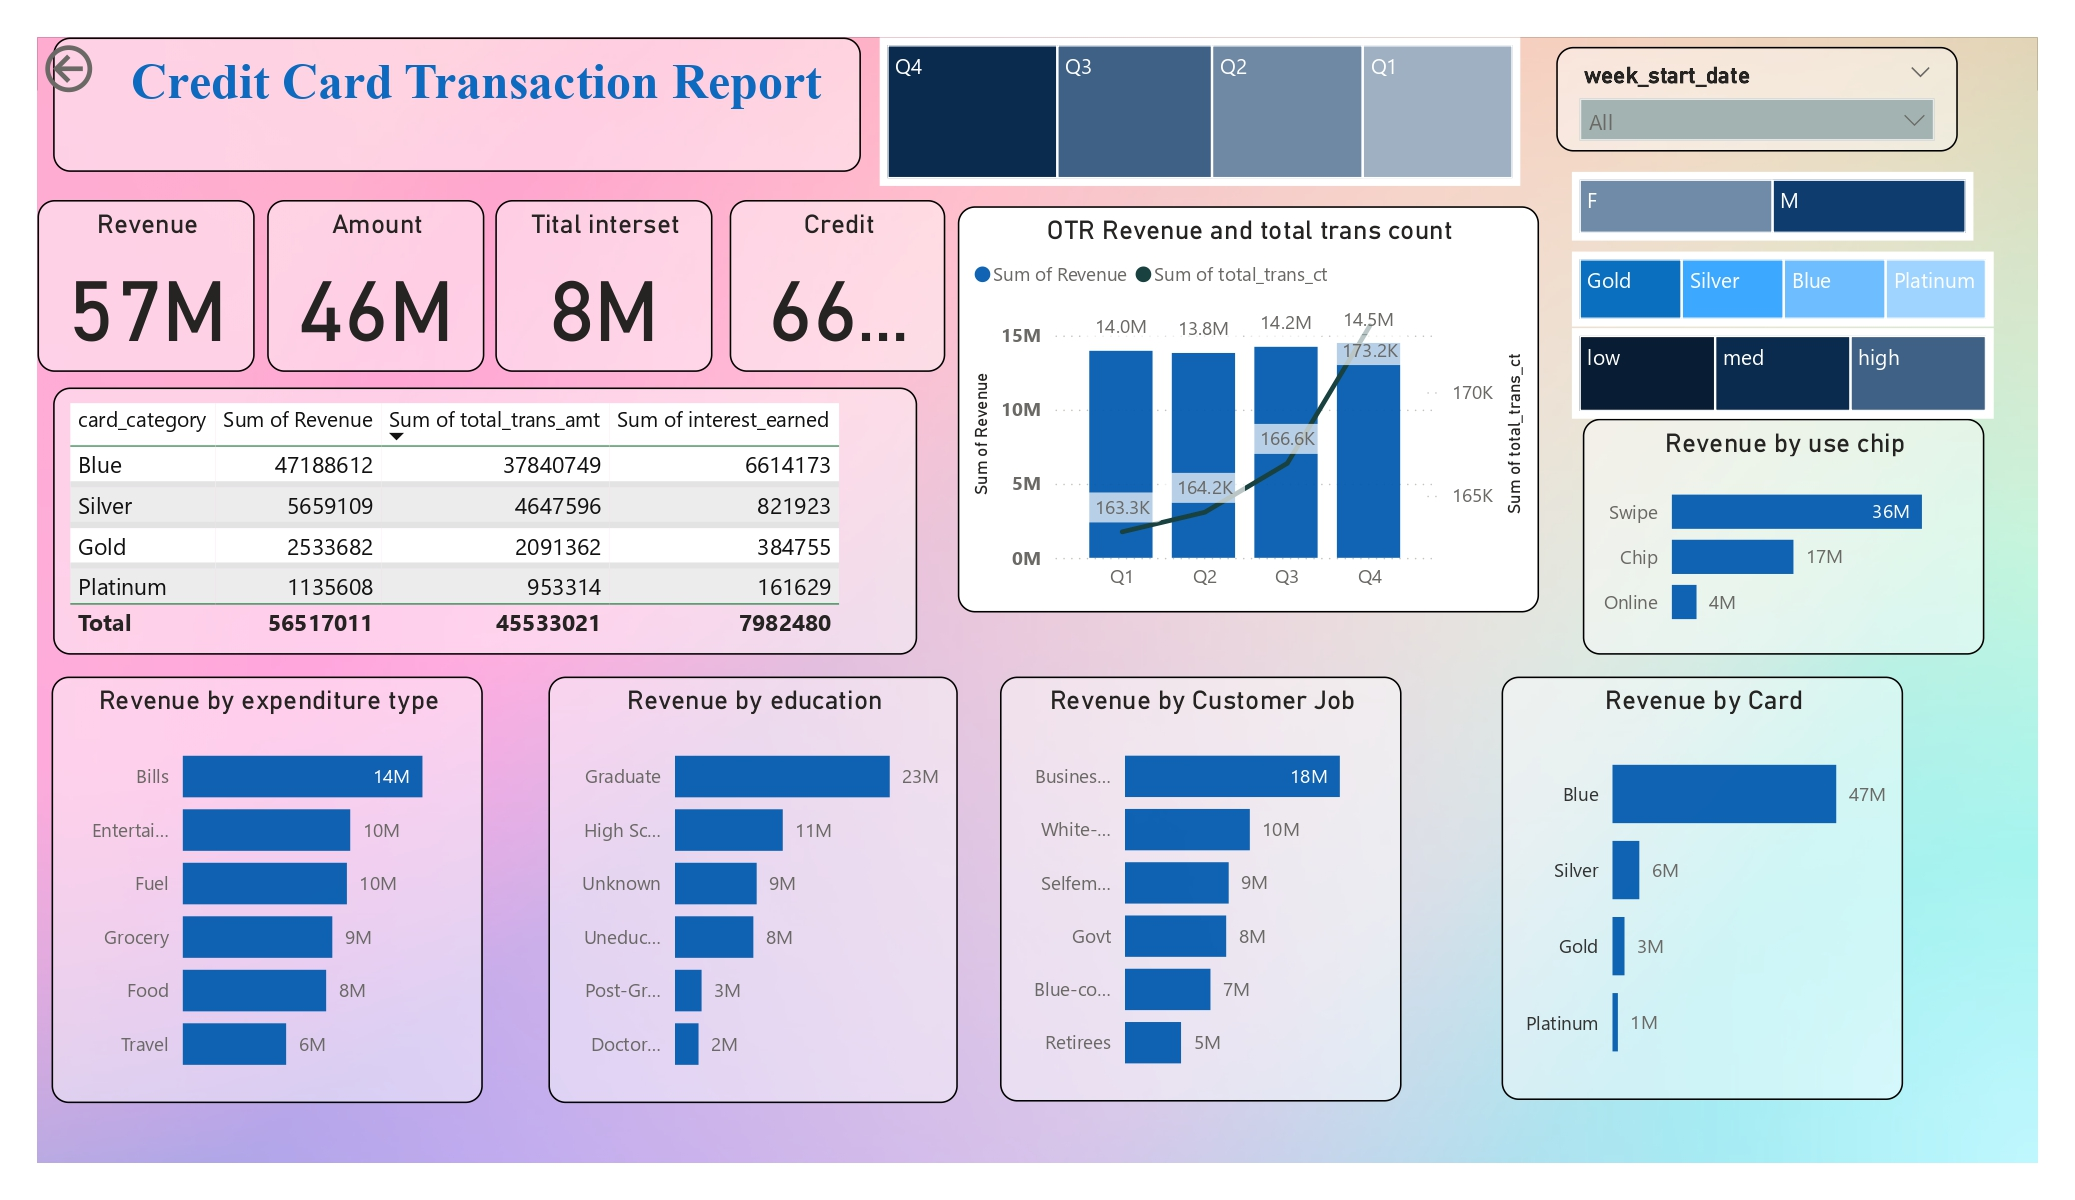

Layout of this report page (visuals, bound fields, positions):
{"tool":"powerbi","page":{"name":"Page 1","canvas":[1280,720],"ordinal":0},"visuals":[{"type":"textbox","box":[9.6,0,517.4,85.7],"z":0},{"type":"lineStackedColumnComboChart","title":"OTR Revenue and total trans count","fields":{"Category":["public cc_detail.qtr"],"Y":["Sum(public cc_detail.Revenue)"],"Y2":["Sum(public cc_detail.total_trans_ct)"]},"box":[589.1,108.2,371.7,260.3],"z":1000},{"type":"barChart","title":"Revenue by expenditure type","fields":{"Category":["public cc_detail.exp_type"],"Y":["Sum(public cc_detail.Revenue)"]},"box":[8.6,409.2,276.4,273.1],"z":2000},{"type":"barChart","title":"Revenue by education","fields":{"Category":["public cust_detail.education_level"],"Y":["Sum(public cc_detail.Revenue)"]},"box":[326.7,409.2,262.4,273.1],"z":3000},{"type":"barChart","title":"Revenue by Customer Job  ","fields":{"Category":["public cust_detail.customer_job"],"Y":["Sum(public cc_detail.Revenue)"]},"box":[615.9,409.2,257.1,272.1],"z":4000},{"type":"barChart","title":"Revenue by Card","fields":{"Category":["public cc_detail.card_category"],"Y":["Sum(public cc_detail.Revenue)"]},"box":[937.2,409.2,257.1,271],"z":5000},{"type":"barChart","title":"Revenue by use chip","fields":{"Category":["public cc_detail.use_chip"],"Y":["Sum(public cc_detail.Revenue)"]},"box":[988.7,244.2,257.1,151],"z":6000},{"type":"tableEx","fields":{"Values":["public cc_detail.card_category","Sum(public cc_detail.Revenue)","Sum(public cc_detail.total_trans_amt)","Sum(public cc_detail.interest_earned)"]},"box":[9.6,223.9,553.8,171.4],"z":7000},{"type":"card","title":"Revenue","fields":{"Values":["Sum(public cc_detail.Revenue)"]},"box":[0,104.3,138.6,110],"z":8000},{"type":"card","title":"Amount","fields":{"Values":["Sum(public cc_detail.total_trans_amt)"]},"box":[147.1,104.3,139,110],"z":9000},{"type":"card","title":"Tital interset","fields":{"Values":["Sum(public cc_detail.interest_earned)"]},"box":[292.9,104.3,139,110],"z":10000},{"type":"card","title":"Credit ","fields":{"Values":["Sum(public cc_detail.total_trans_ct)"]},"box":[442.9,104.3,138.6,110],"z":11000},{"type":"actionButton","box":[0,0,100,40],"z":12000},{"type":"slicer","fields":{"Values":["public cc_detail.week_start_date"]},"box":[971.5,6.4,257.1,66.4],"z":13000},{"type":"treemap","fields":{"Group":["public cc_detail.qtr"],"Values":["Avg(public cc_detail.Client_Num)"]},"box":[538.8,0,410.2,95.3],"z":14000},{"type":"treemap","fields":{"Group":["public cust_detail.gender"],"Values":["Avg(public cust_detail.client_num)"]},"box":[982.2,85.7,257.1,43.9],"z":15000},{"type":"treemap","fields":{"Group":["public cc_detail.card_category"],"Values":["Avg(public cust_detail.client_num)"]},"box":[982.2,137.1,269.9,48.2],"z":16000},{"type":"treemap","fields":{"Group":["public cust_detail.IncomeGroup"],"Values":["Avg(public cust_detail.client_num)"]},"box":[982.2,186.4,269.9,57.8],"z":17000}]}

Visuals, with their boxes in screenshot pixels (x1, y1, x2, y2):
textbox: pyautogui.locateOnScreen(52, 38, 861, 171)
"OTR Revenue and total trans count" lineStackedColumnComboChart: pyautogui.locateOnScreen(958, 207, 1539, 613)
"Revenue by expenditure type" barChart: pyautogui.locateOnScreen(51, 677, 483, 1104)
"Revenue by education" barChart: pyautogui.locateOnScreen(548, 677, 958, 1104)
"Revenue by Customer Job  " barChart: pyautogui.locateOnScreen(1000, 677, 1402, 1102)
"Revenue by Card" barChart: pyautogui.locateOnScreen(1502, 677, 1904, 1100)
"Revenue by use chip" barChart: pyautogui.locateOnScreen(1582, 419, 1984, 655)
tableEx - public cc_detail.card_category x Sum(public cc_detail.Revenue): pyautogui.locateOnScreen(52, 387, 918, 655)
"Revenue" card: pyautogui.locateOnScreen(38, 200, 254, 372)
"Amount" card: pyautogui.locateOnScreen(267, 200, 485, 372)
"Tital interset" card: pyautogui.locateOnScreen(495, 200, 712, 372)
"Credit " card: pyautogui.locateOnScreen(730, 200, 946, 372)
actionButton: pyautogui.locateOnScreen(38, 38, 194, 100)
slicer - public cc_detail.week_start_date: pyautogui.locateOnScreen(1555, 48, 1957, 151)
treemap - public cc_detail.qtr x Avg(public cc_detail.Client_Num): pyautogui.locateOnScreen(879, 38, 1520, 186)
treemap - public cust_detail.gender x Avg(public cust_detail.client_num): pyautogui.locateOnScreen(1572, 171, 1974, 240)
treemap - public cc_detail.card_category x Avg(public cust_detail.client_num): pyautogui.locateOnScreen(1572, 252, 1994, 327)
treemap - public cust_detail.IncomeGroup x Avg(public cust_detail.client_num): pyautogui.locateOnScreen(1572, 329, 1994, 419)
